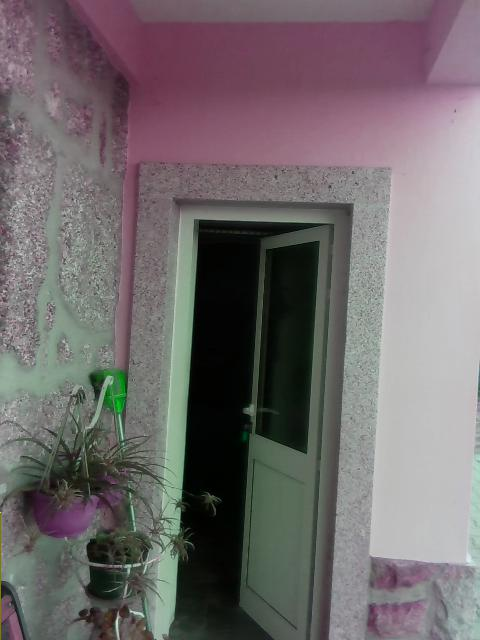semi_door: (155, 197, 354, 639)
